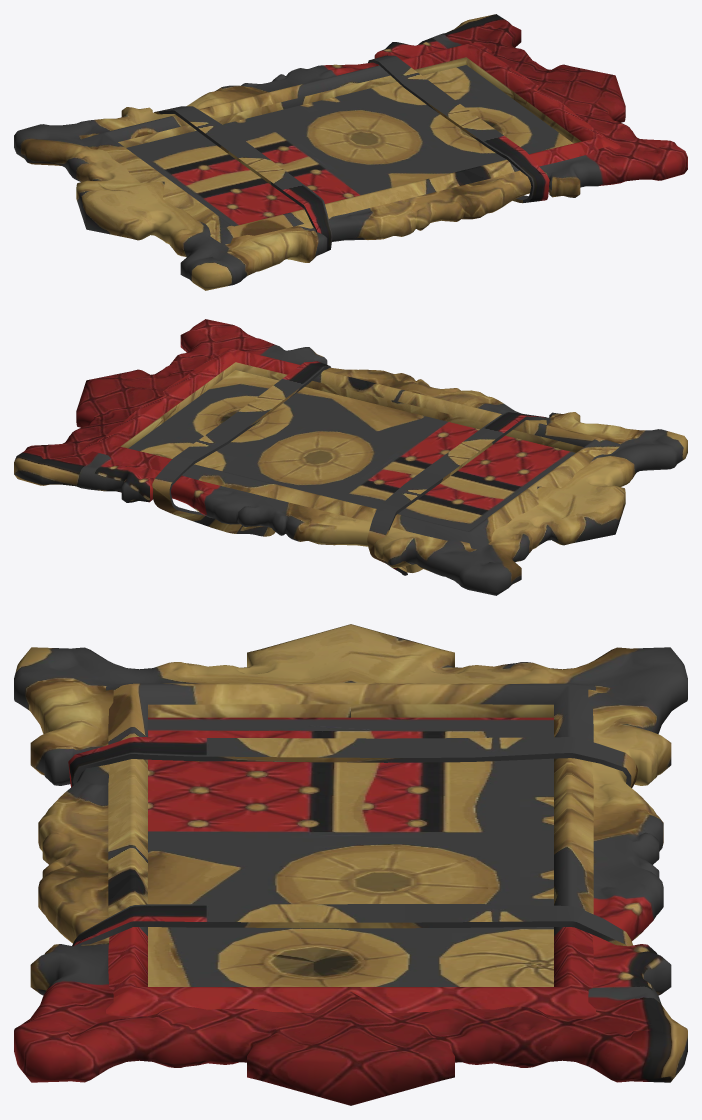
Rendered from glider-starryflight.glb.
3 renders of one model, top to bottom at view 1: azimuth 30°, elevation 25°; view 2: azimuth 150°, elevation 25°; view 3: azimuth 270°, elevation 25°, orthographic. The views are drawn at different scales.
Visible parts, largest first — view 1: Starry Flight.smd-static; view 2: Starry Flight.smd-static; view 3: Starry Flight.smd-static.
Part boxes in pixels (x1=…): Starry Flight.smd-static: x1=14, y1=14, x2=687, y2=290; Starry Flight.smd-static: x1=14, y1=319, x2=687, y2=595; Starry Flight.smd-static: x1=14, y1=624, x2=687, y2=1105.
Bounding box in the file's own units: 2.4 × 0.4419 × 1.56.
1 material, 1 textured.
